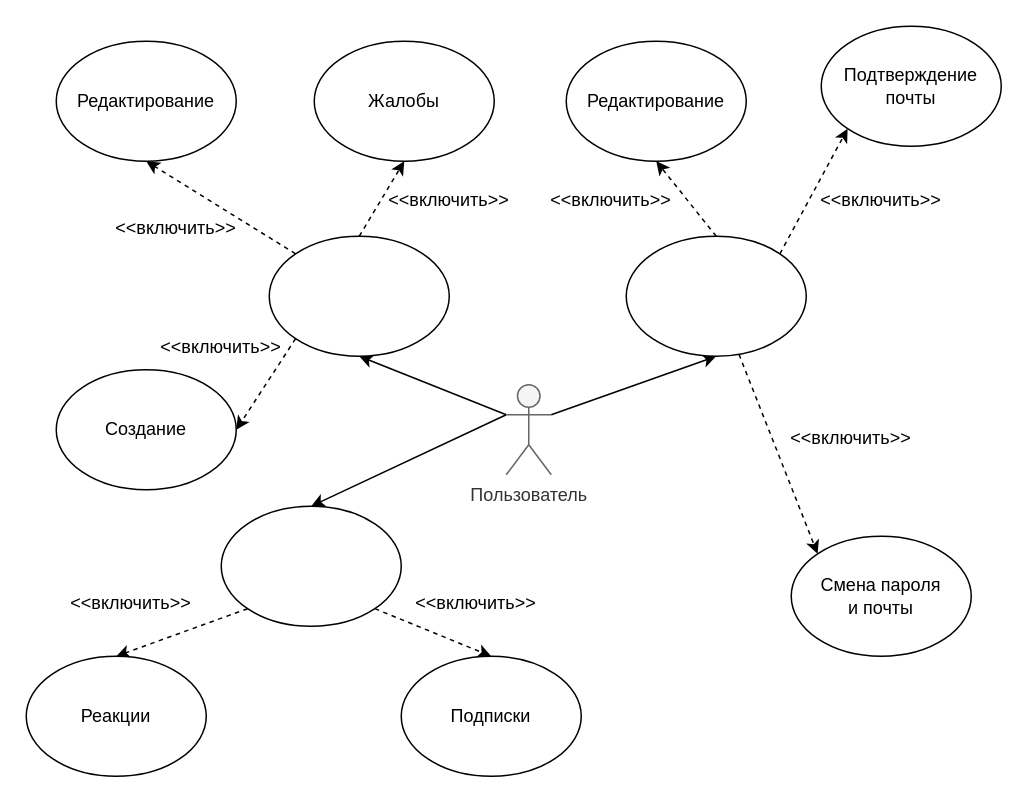
The diagram is 1028 pixels wide and 803 high, and some of its shapes have lost their labels. The centre of each missing label's shape, as x and y in pixels:
Работа с картинками: point 358,295
Работа с профилем: point 715,295
Социальное взаимодействие: point 310,565
